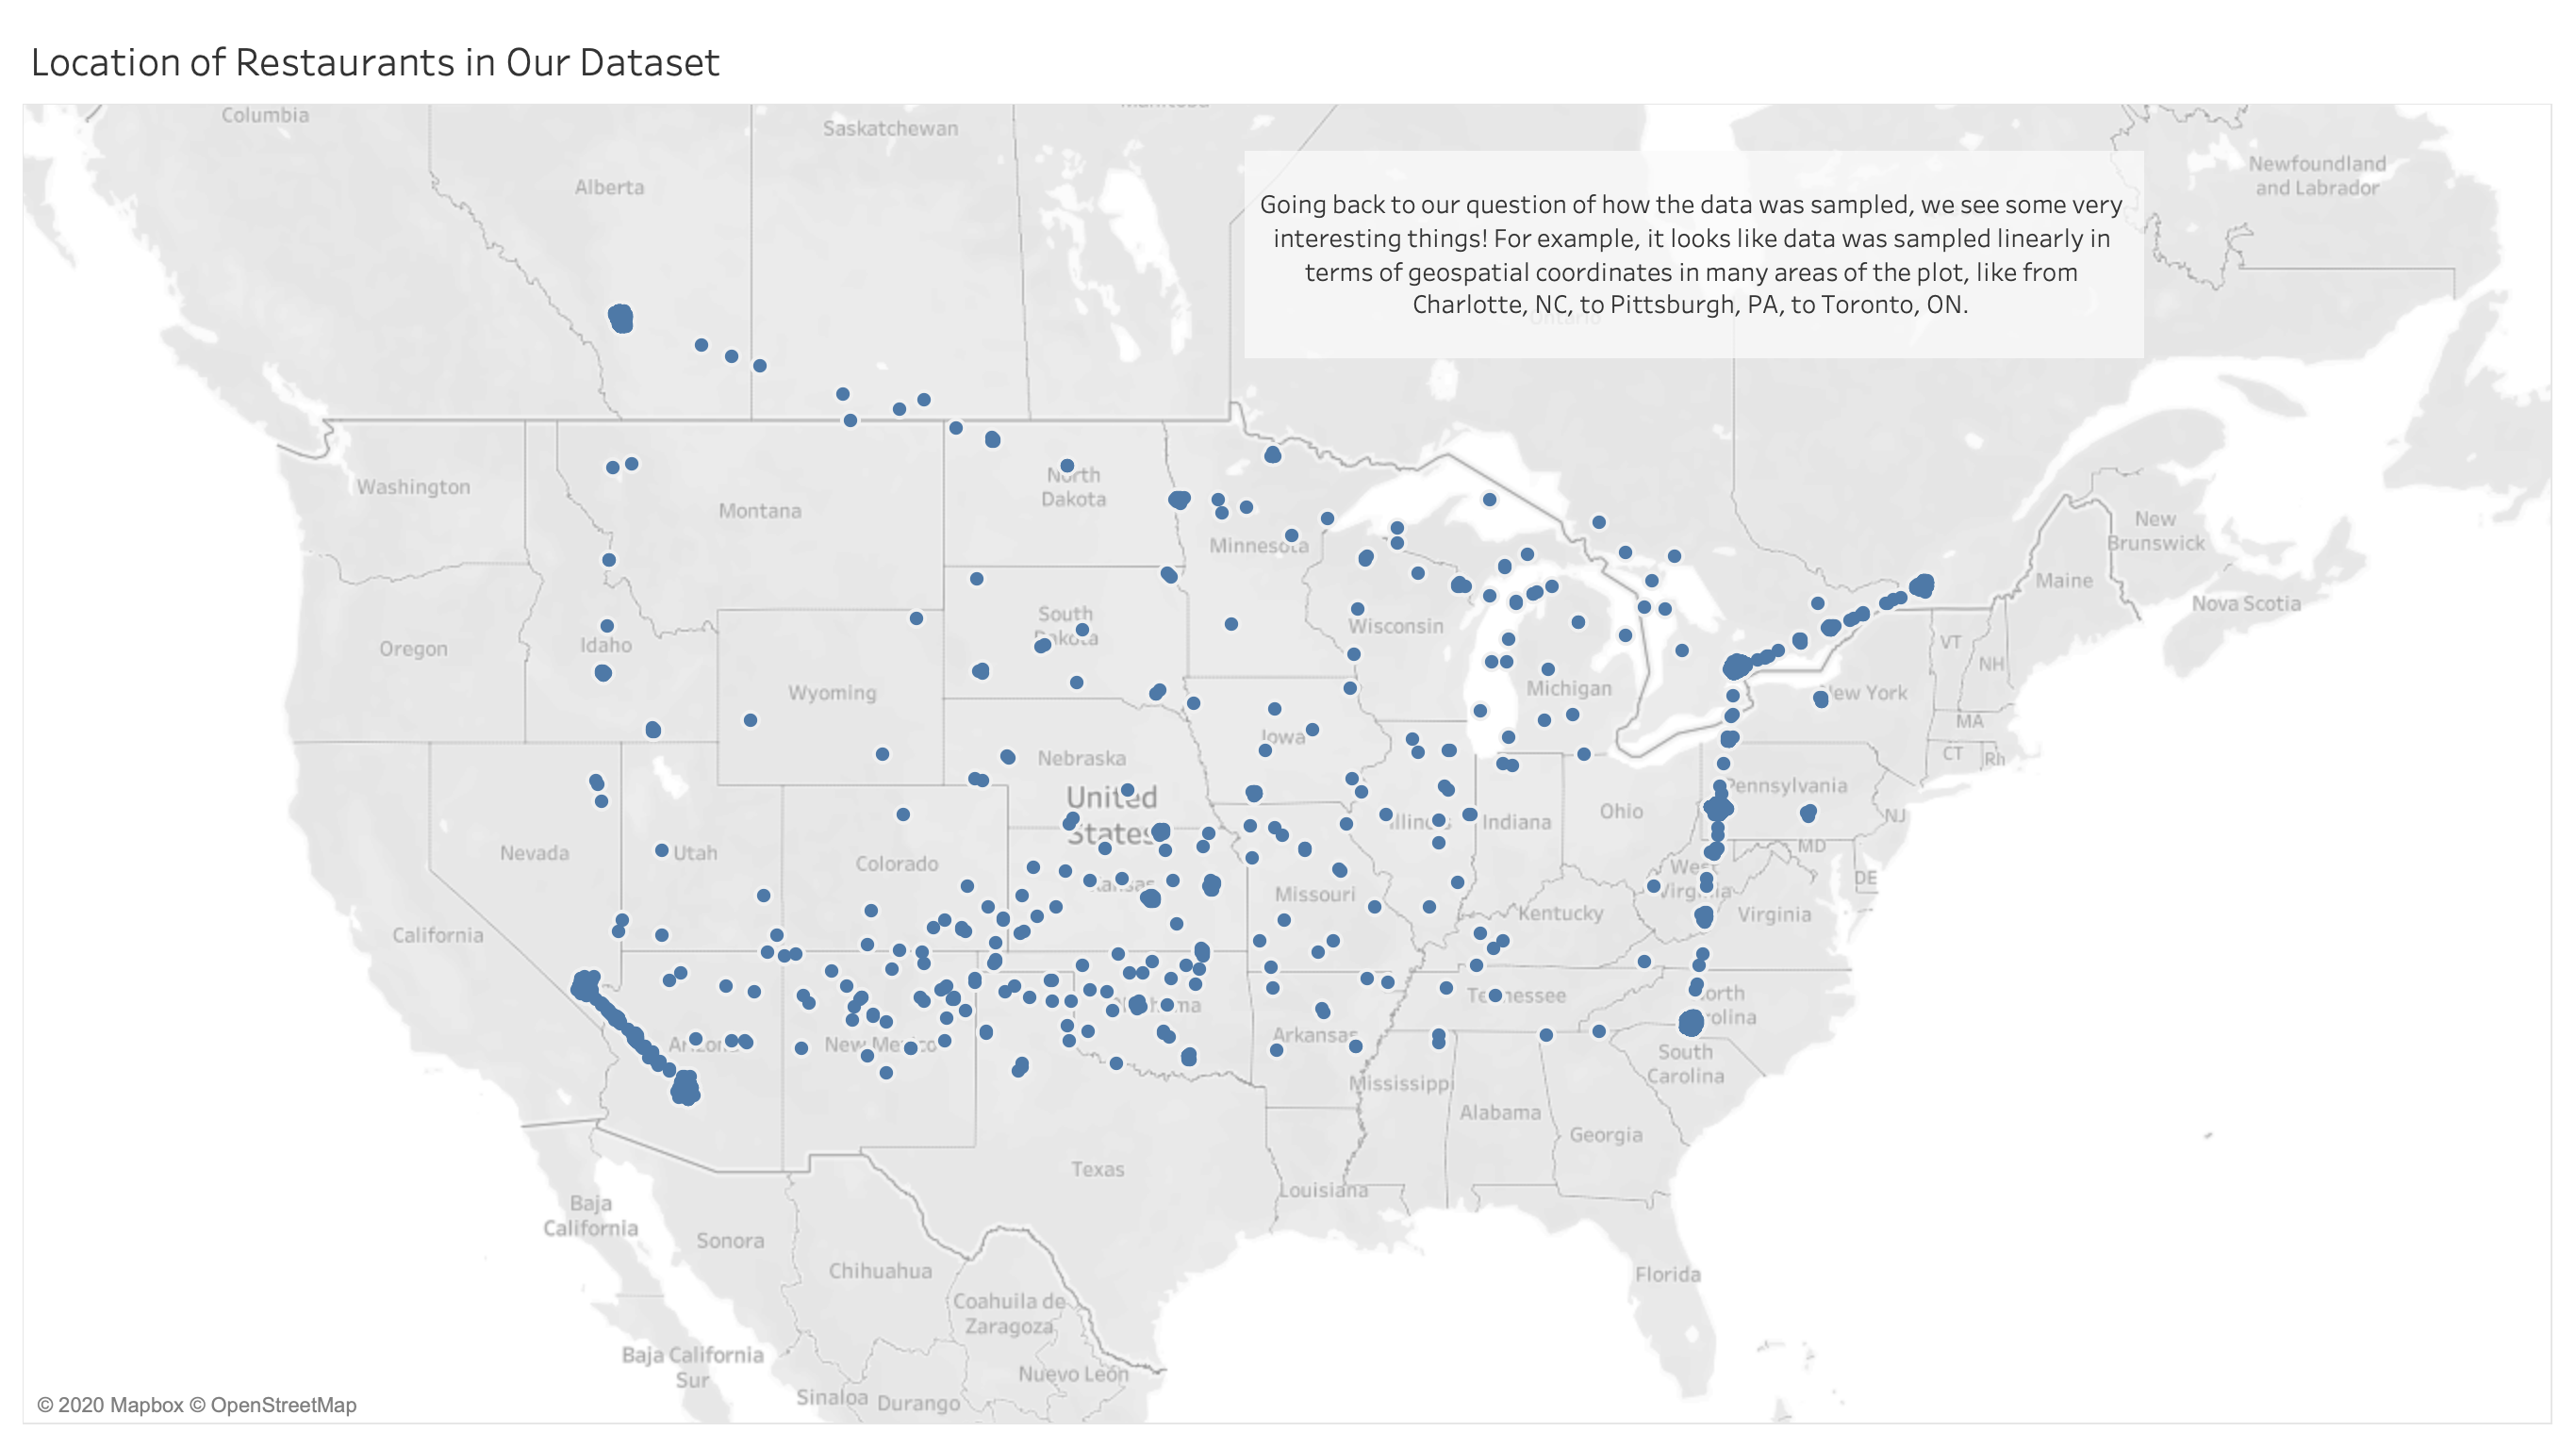

The page's visual inventory and layout, read from the dashboard file:
{"tool":"tableau","page":{"name":"Dashboard 5","canvas":[1366,768],"ordinal":4},"visuals":[{"type":"worksheet","box":[0,0,1366,768]},{"type":"worksheet","title":"Sheet 10","mark":"Circle","rows":["latitude"],"cols":["longitude"],"box":[8,8,1350,752]}]}

Visuals, with their boxes in screenshot pixels (x1, y1, x2, y2), scaled from the page's 1366x768 canvas onto the 2576x1448 screenshot:
worksheet: (left=0, top=0, right=2575, bottom=1447)
"Sheet 10" worksheet (Circle marks): (left=15, top=15, right=2561, bottom=1433)
